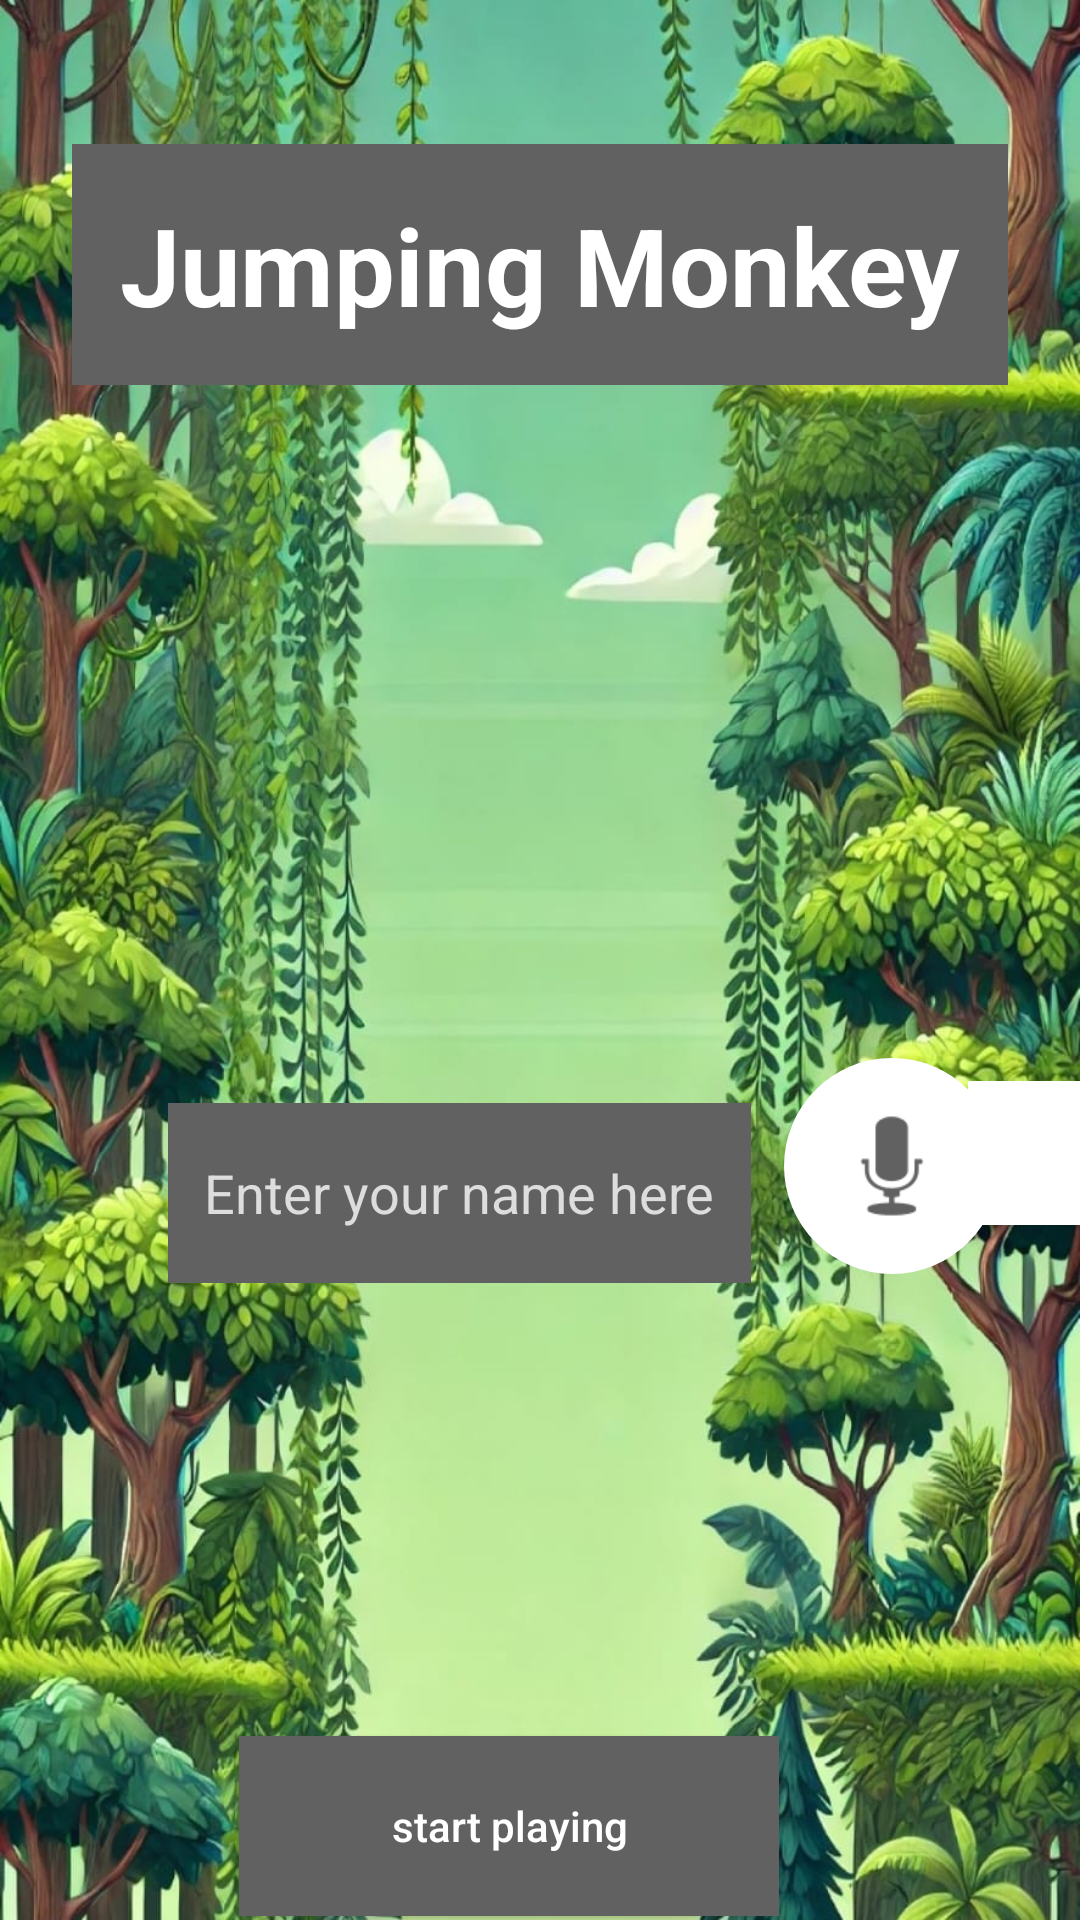

Icons on this 1080 × 1920 Android screen, each with the point to tap as [x,y]:
Speak your name: [892,1166]
